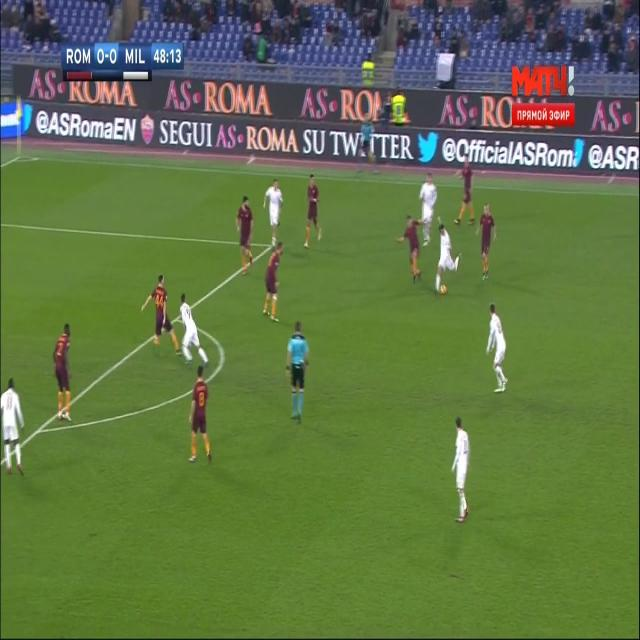Ball: (439, 282, 448, 298)
Player: (138, 272, 181, 360), (178, 292, 213, 371), (0, 374, 27, 476), (187, 365, 213, 468), (485, 301, 511, 400), (450, 414, 471, 527), (433, 215, 462, 295), (53, 324, 75, 428), (261, 240, 284, 325), (398, 215, 425, 286), (476, 201, 499, 283), (453, 157, 478, 231), (301, 172, 324, 250), (235, 194, 255, 280), (417, 171, 439, 248), (262, 179, 285, 248)
Referee: (284, 319, 311, 426)
